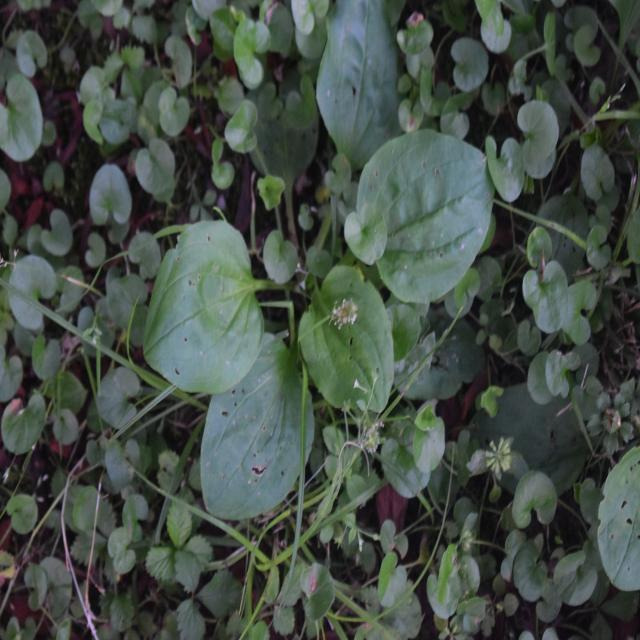plantain: (152, 81, 478, 506)
